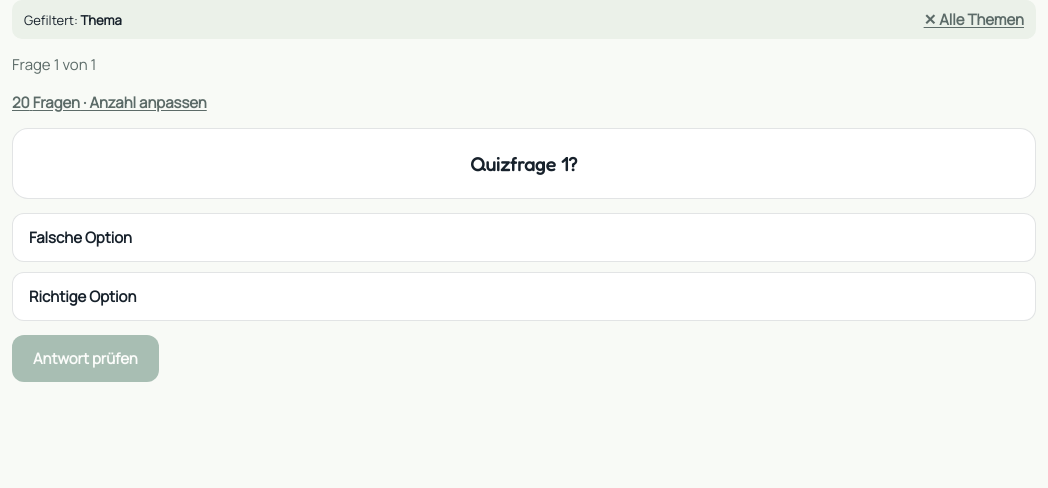
Test case: Quiz (F-21/F-22, nur Quiz) › offline (F-42) › liest die Runde aus der lokalen Kopie und wertet über die lokale Mutation aus, ohne den Server anzurufen
expect the text "Quizfrage 1?" is shown: met, box top-left (12, 128), bottom-right (1036, 199)
Click the button "Richtige Option": (83, 297) top-left (12, 272), bottom-right (1036, 321)
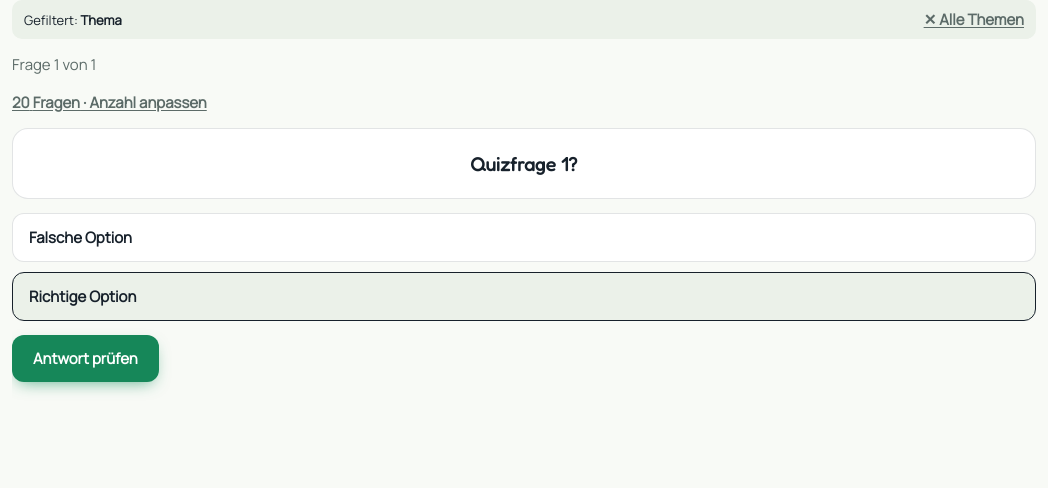
Click the button "Antwort prüfen": (85, 359) top-left (12, 335), bottom-right (159, 382)
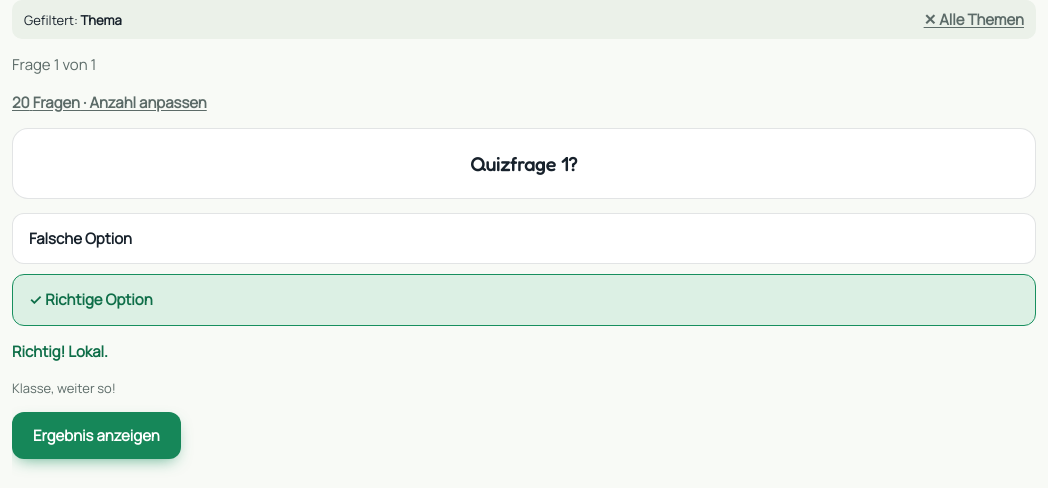
expect the text "Lokal." is shown: met, box top-left (68, 341), bottom-right (108, 362)
